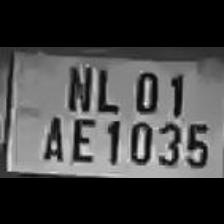0: (128, 65, 160, 112), (124, 116, 152, 166)
1: (162, 66, 190, 114), (97, 114, 122, 164)
3: (153, 116, 181, 166)
5: (181, 118, 209, 168)
A: (38, 110, 66, 162)
E: (65, 113, 95, 162)
L: (91, 61, 121, 113)
N: (62, 61, 94, 111)
